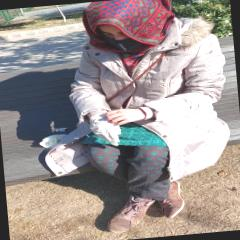gloved: (88, 111, 122, 148)
not-gloved: (107, 107, 146, 127)
